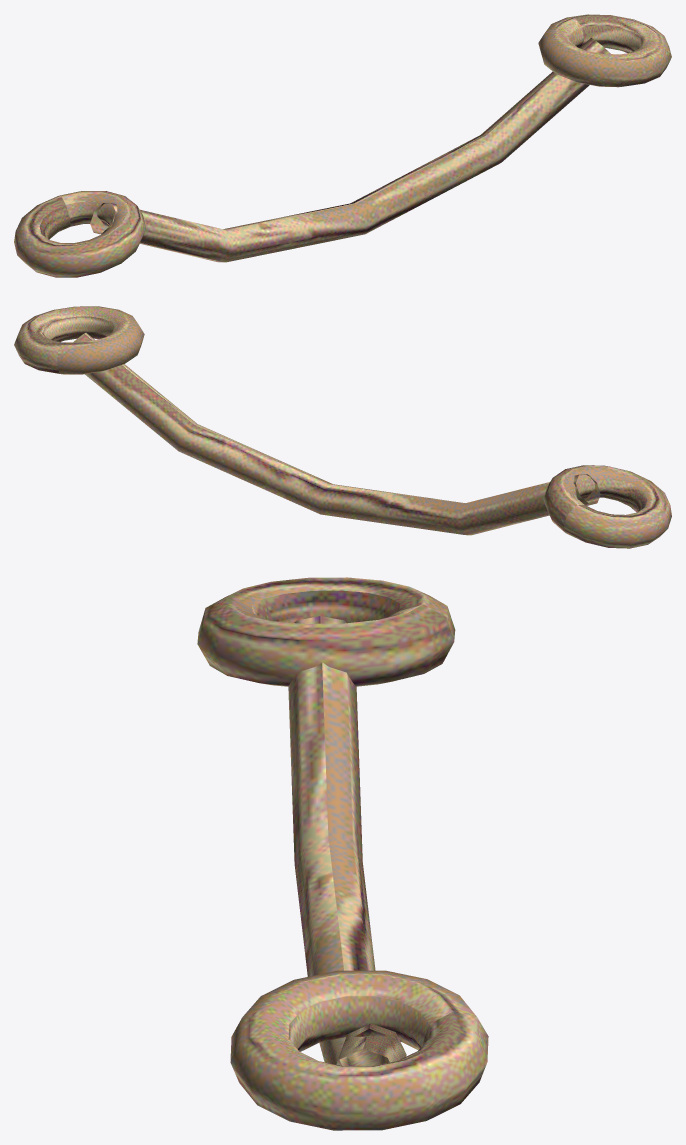
The model's file is SlapBros_Beach_rope_1.fbx.
The picture shows the model from 3 angles, top to bottom: view 1: azimuth 30°, elevation 25°; view 2: azimuth 150°, elevation 25°; view 3: azimuth 270°, elevation 25°; orthographic projection. The views are drawn at different scales.
Parts seen in each view (by area): view 1: SlapBros_Beach_rope_1; view 2: SlapBros_Beach_rope_1; view 3: SlapBros_Beach_rope_1.
Boxes of the visible parts, box(x1,y1,x2,y2) form: SlapBros_Beach_rope_1: box(14, 14, 671, 277); SlapBros_Beach_rope_1: box(14, 306, 671, 548); SlapBros_Beach_rope_1: box(197, 577, 488, 1130).
Size of the model in its own units: 7.15 by 1.48 by 1.43.
